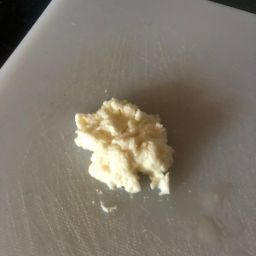Crumbled Feta: (58, 90, 177, 220), (98, 103, 174, 205), (95, 121, 141, 173)
